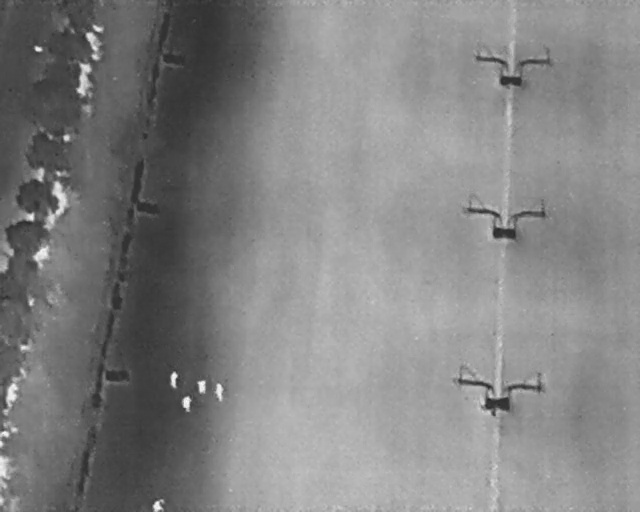Person: (169, 370, 179, 391), (180, 396, 192, 413), (151, 498, 166, 511), (195, 379, 207, 395), (215, 382, 225, 401)
